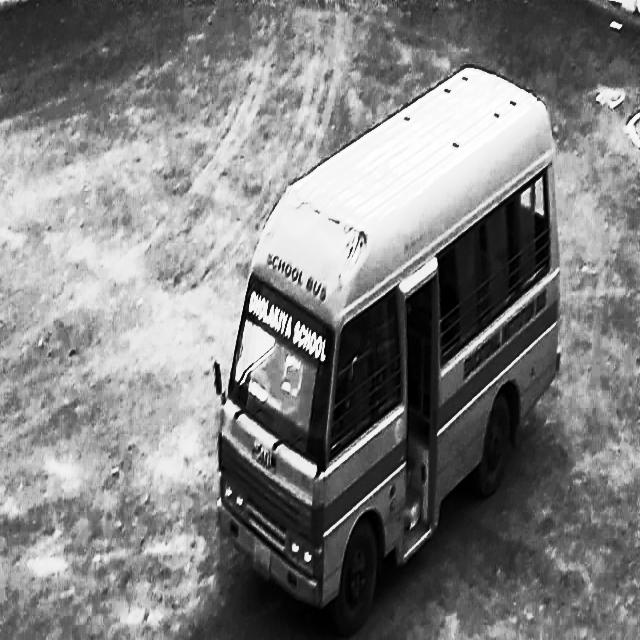Bus: (209, 59, 582, 634)
